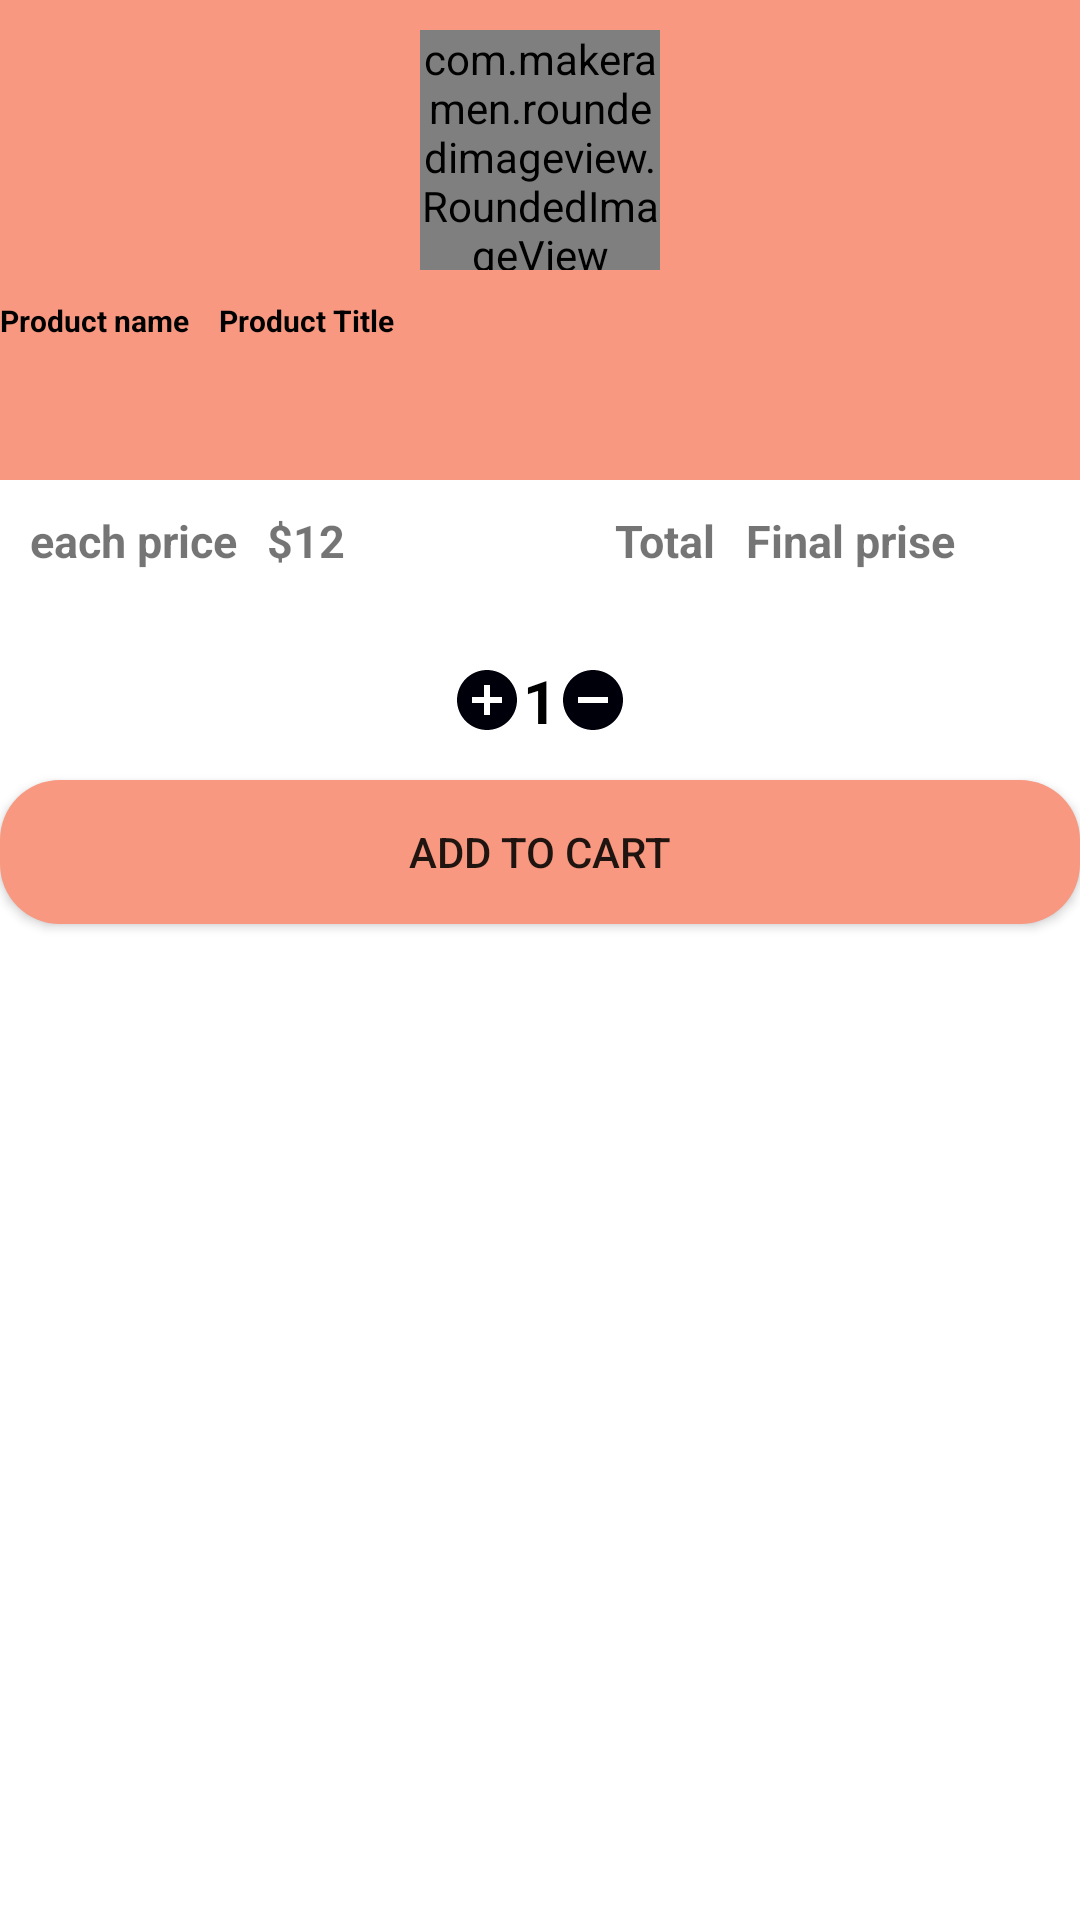

Named icons in this screenshot (1080×1920) and their centers, point (x, y):
remove circle: point (593, 700)
